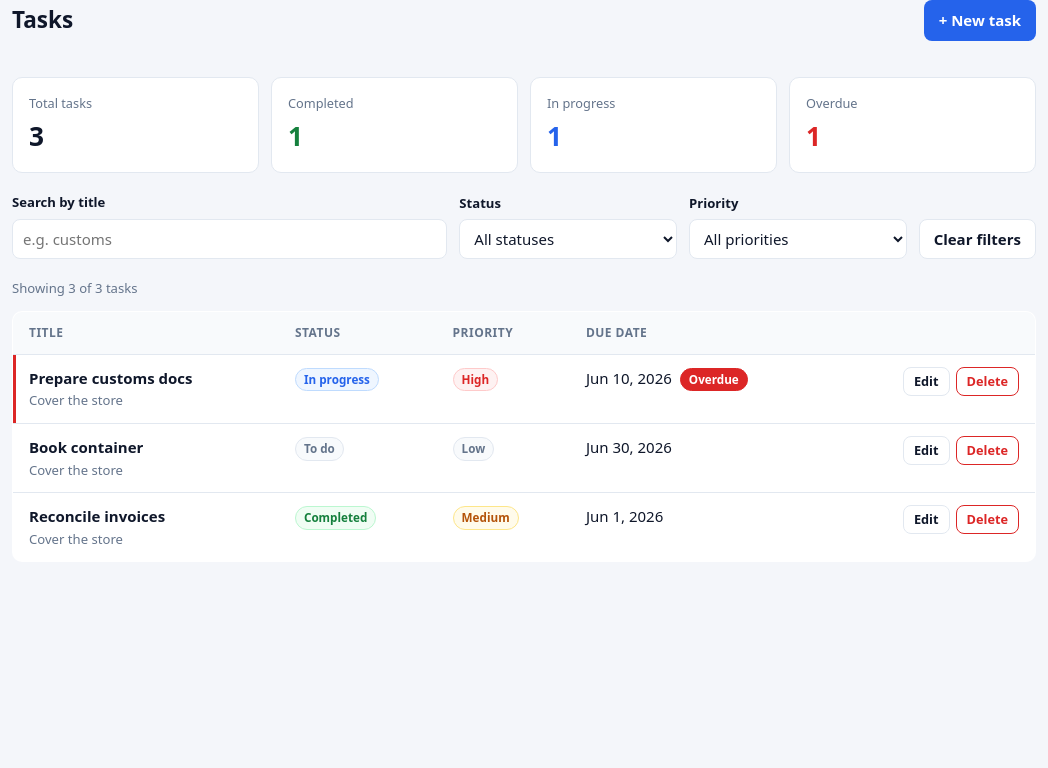
Test: TaskListPageComponent › shows an empty state when no tasks match the filters
Select "High" in the dropdown labelled "Priority" at (798, 239), box [689,219,907,259]
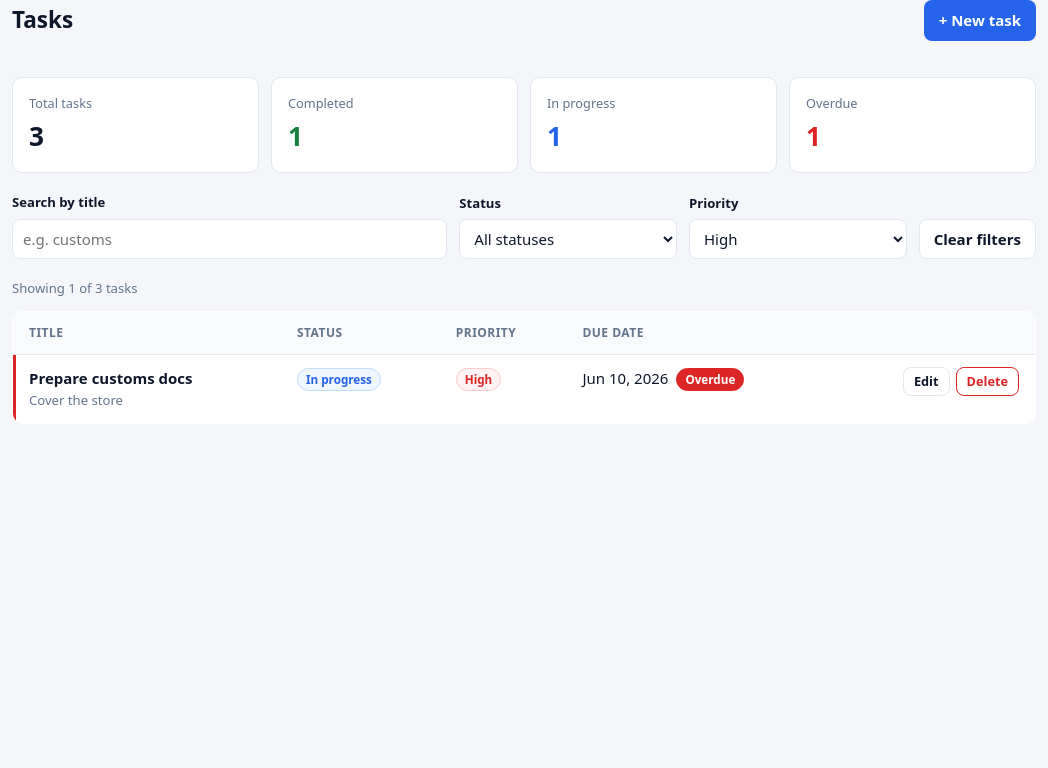
Select "Completed" in the dropdown with id "status-filter" at (568, 239), box [459,219,677,259]
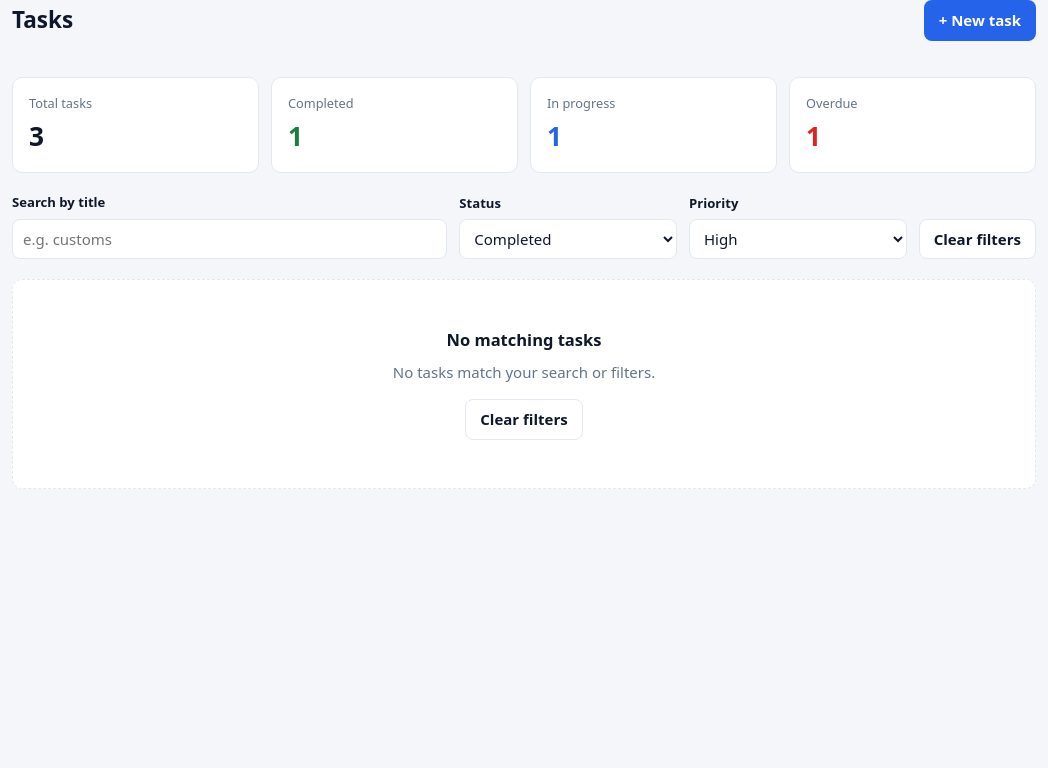
Expected: the text "No matching tasks" is shown, [446,328,601,351]
